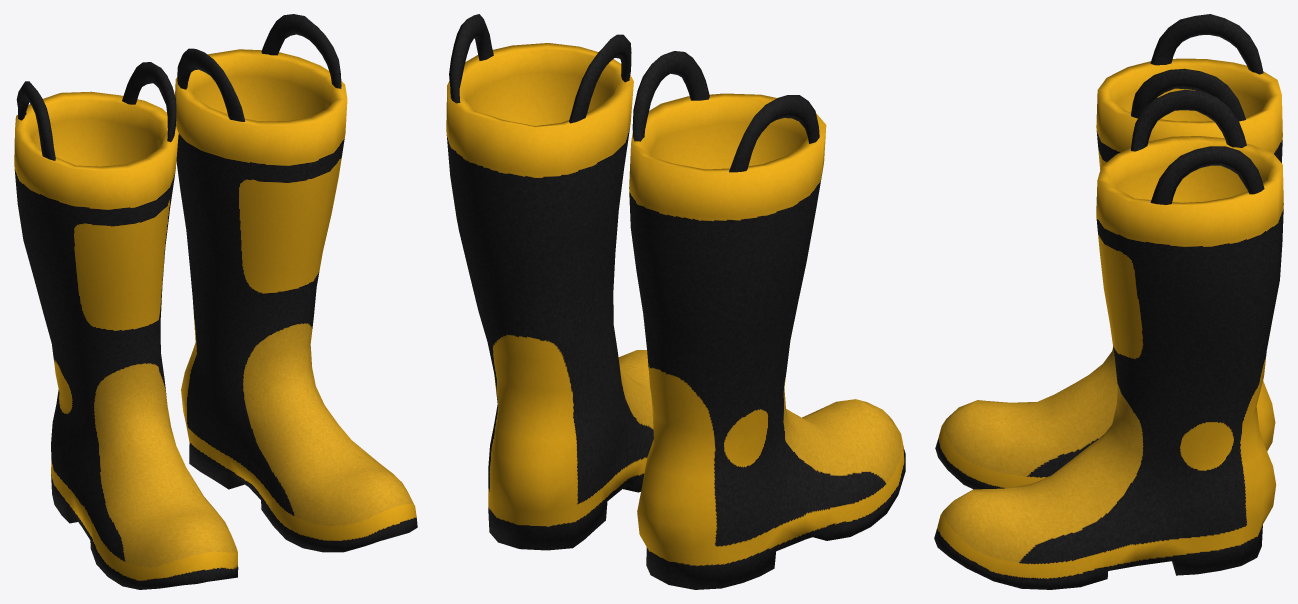
The model's file is Fire_Fighter_Shoes.fbx.
3 views of the same model, side by side, from view 1: azimuth 30°, elevation 25°; view 2: azimuth 150°, elevation 25°; view 3: azimuth 270°, elevation 25° (orthographic). The views are drawn at different scales.
Parts seen in each view (by area): view 1: Shoes; view 2: Shoes; view 3: Shoes.
Boxes of the visible parts, x1,y1,x2,y2 form: Shoes: (14, 14, 417, 589); Shoes: (446, 14, 905, 589); Shoes: (934, 14, 1283, 589).
Bounding box in the file's own units: 0.38 × 0.5235 × 0.3731.
1 material, 1 textured.
